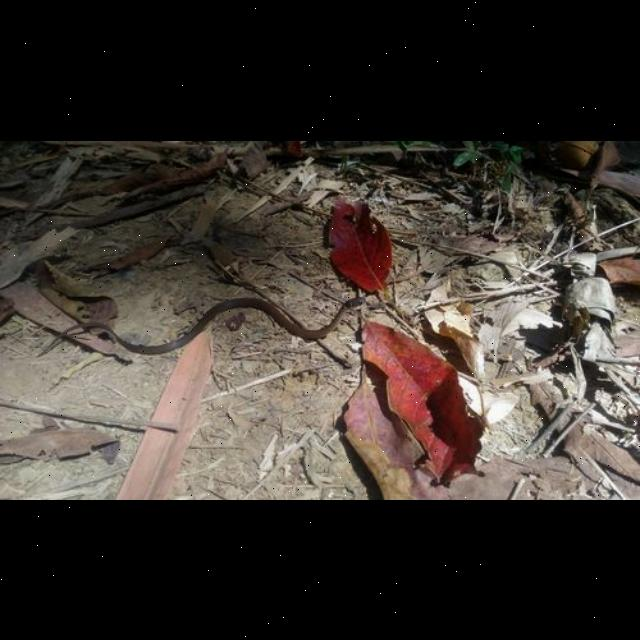snake: (39, 286, 373, 368)
